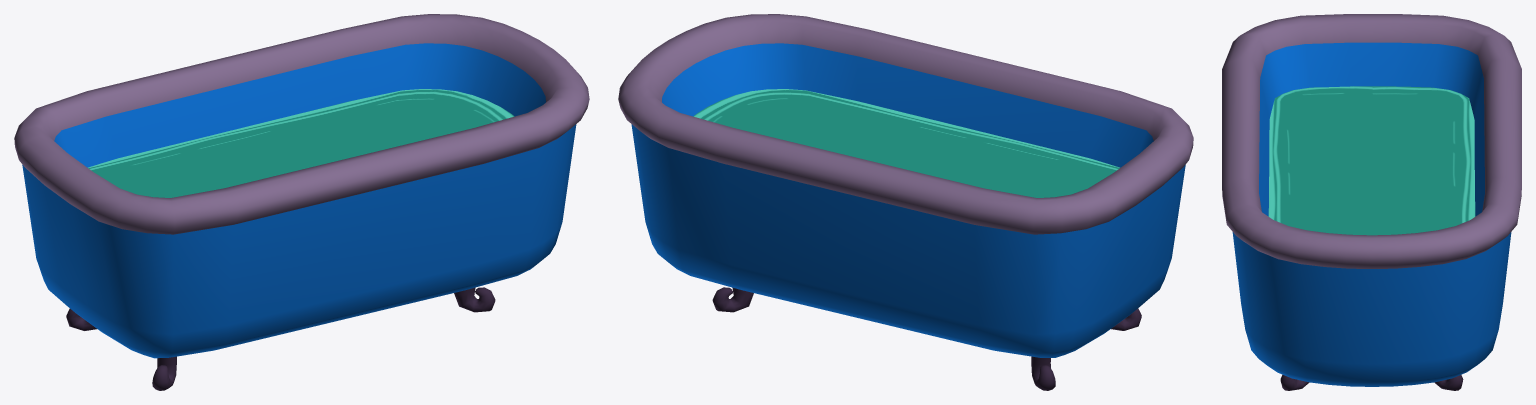
File: Bath_HP_.fbx
3 renders of one model, left to right at view 1: azimuth 30°, elevation 25°; view 2: azimuth 150°, elevation 25°; view 3: azimuth 270°, elevation 25°, orthographic. The views are drawn at different scales.
Visible parts, largest first — view 1: bath001; view 2: bath001; view 3: bath001.
Boxes of the visible parts, <box> form: bath001: <box>14,14,589,390</box>; bath001: <box>618,14,1193,390</box>; bath001: <box>1222,14,1521,390</box>.
Bounding box in the file's own units: 2.06 × 0.8078 × 1.09.
Materials: 1 (1 with a texture image).
